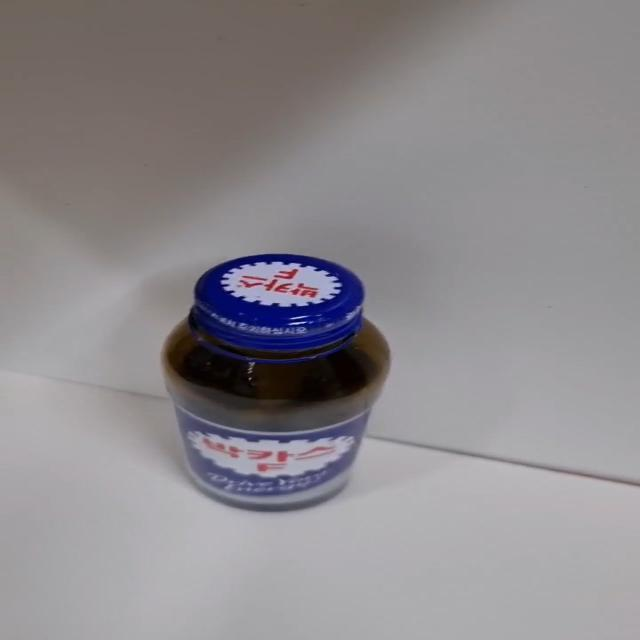Glass: (159, 254, 394, 515)
